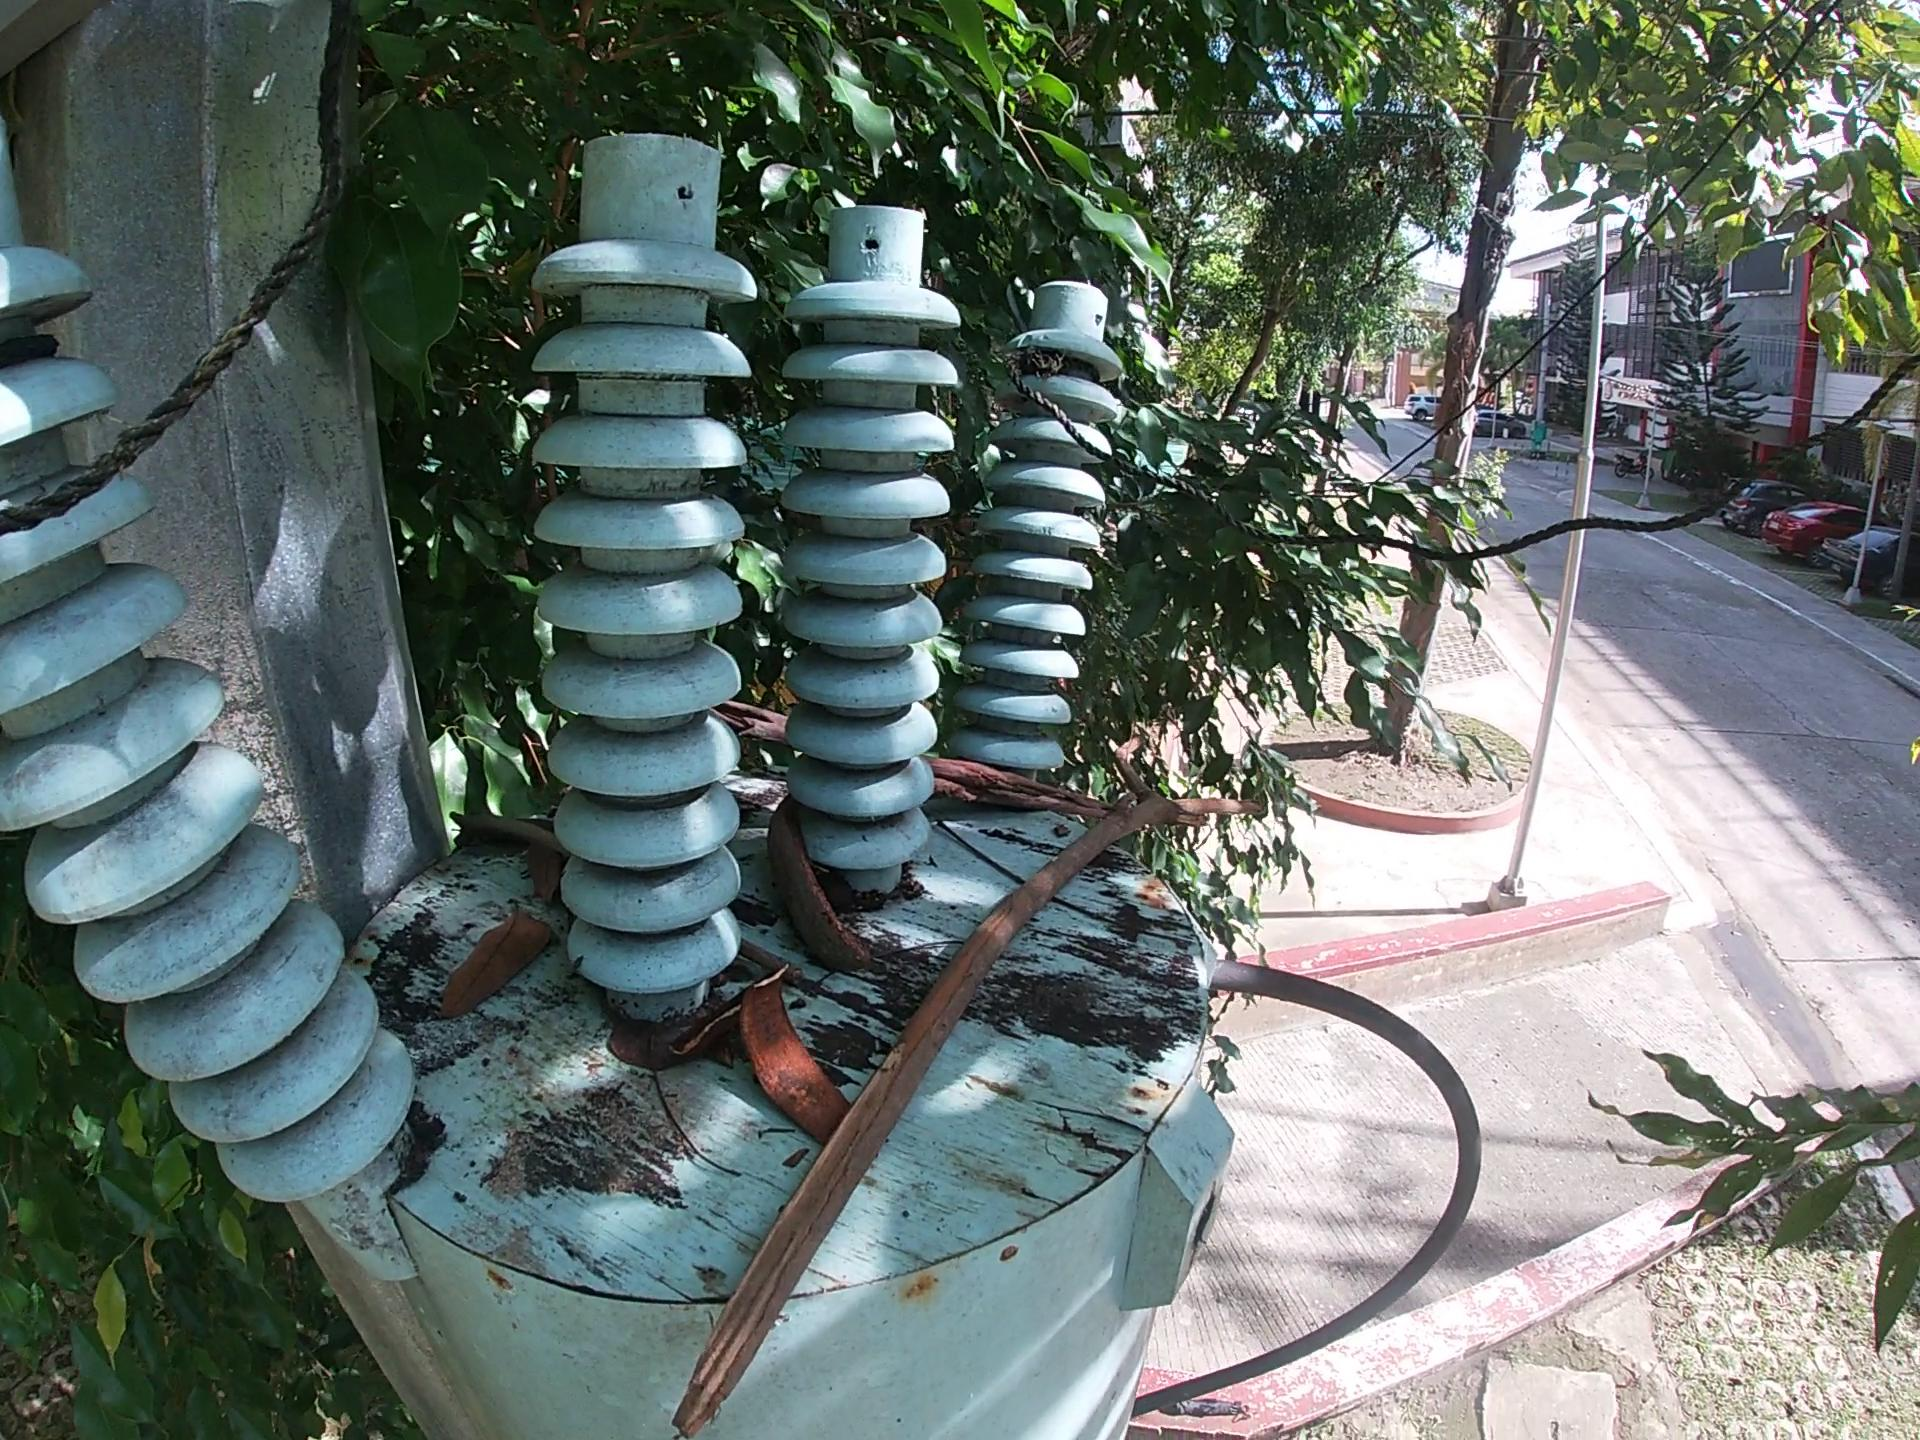leaf: (432, 898, 556, 1023), (603, 1016, 689, 1075), (520, 846, 562, 908)
mahogany fruit: (736, 968, 853, 1151), (763, 793, 875, 971)
tree branch: (655, 725, 1281, 1438), (708, 699, 1126, 820), (440, 811, 571, 861), (735, 936, 810, 985)
